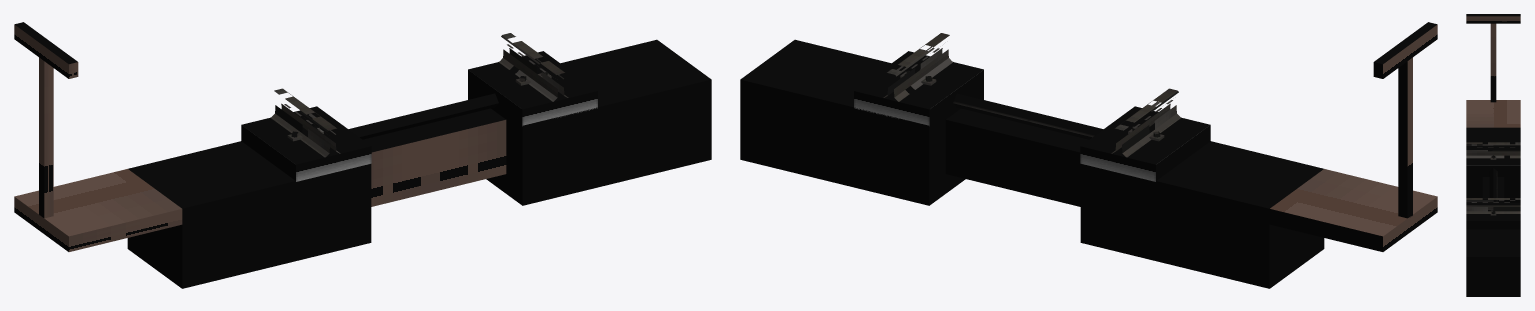
Rendered from steelbridge_brown.obj.
3 views of the same model, side by side, from view 1: azimuth 30°, elevation 25°; view 2: azimuth 150°, elevation 25°; view 3: azimuth 270°, elevation 25° (orthographic). The views are drawn at different scales.
Parts seen in each view (by area): view 1: cube, cuboid, rail; view 2: cube, cuboid, rail; view 3: cube, cuboid, rail.
Part boxes in pixels (x1=…): cube: x1=14, y1=22, x2=711, y2=288; cuboid: x1=241, y1=51, x2=597, y2=181; rail: x1=270, y1=33, x2=568, y2=157; cube: x1=740, y1=22, x2=1437, y2=288; cuboid: x1=854, y1=51, x2=1210, y2=181; rail: x1=883, y1=33, x2=1181, y2=157; cube: x1=1466, y1=14, x2=1520, y2=296; cuboid: x1=1466, y1=147, x2=1520, y2=229; rail: x1=1466, y1=142, x2=1520, y2=213.
Bounding box in the file's own units: 4.25 × 1.59 × 0.625.
3 materials, 3 textured.
